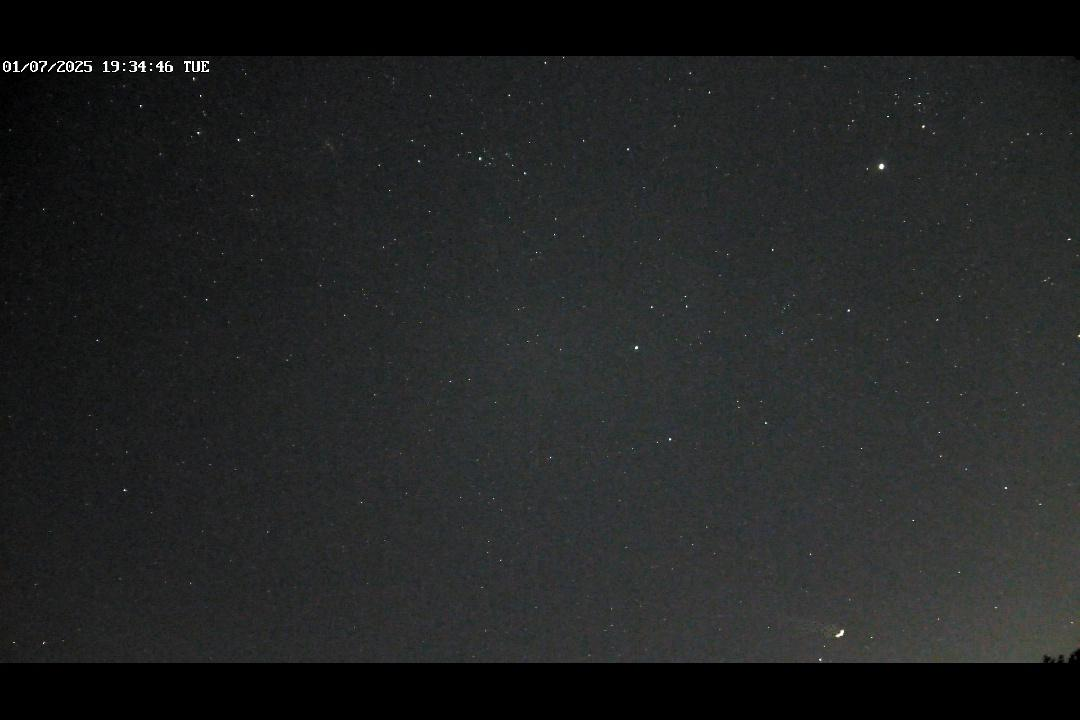Plane: (800, 618, 851, 641)
